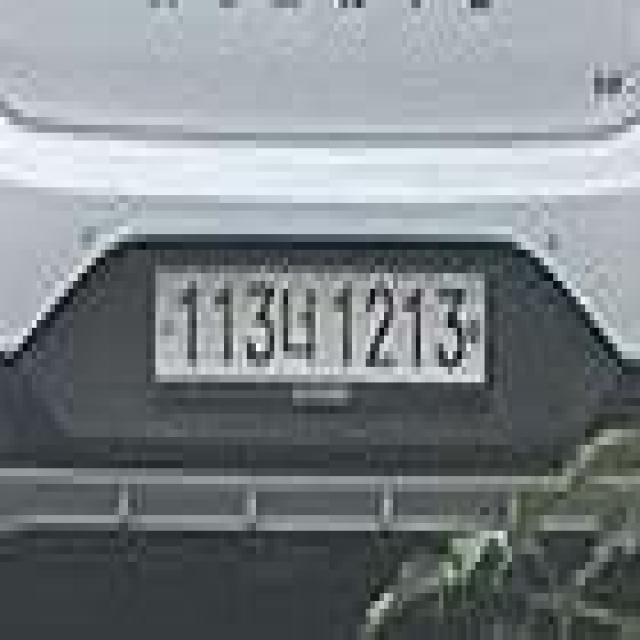illegal_plate: (145, 245, 496, 412)
